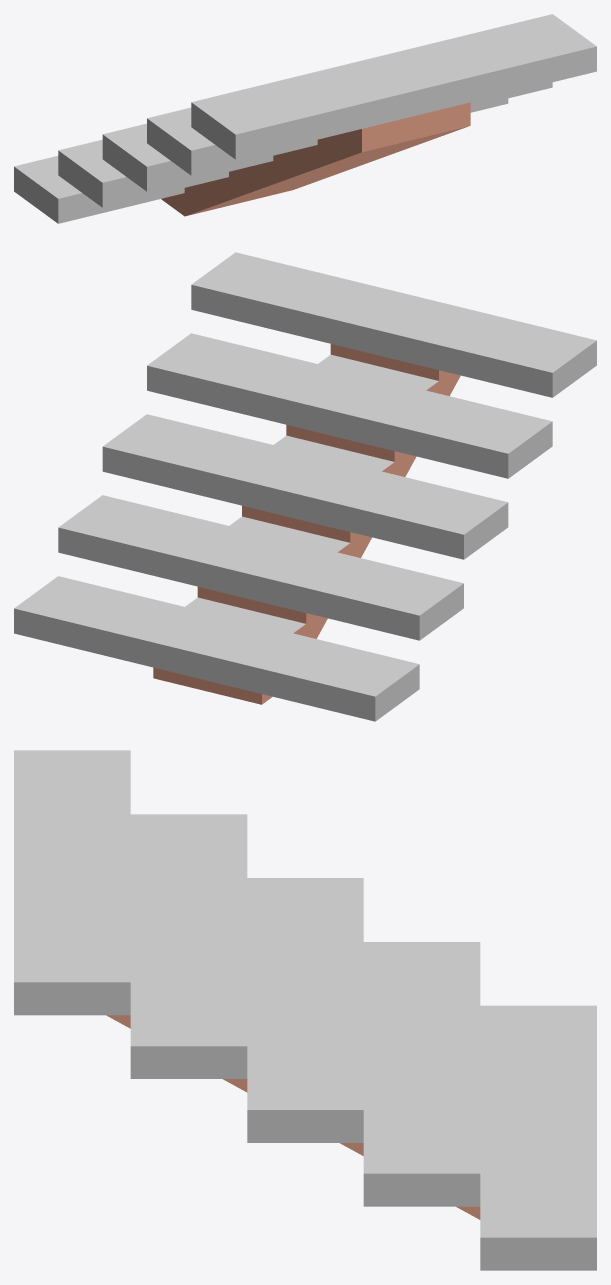
File: stairs.glb
The picture shows the model from 3 angles, top to bottom: view 1: azimuth 30°, elevation 25°; view 2: azimuth 150°, elevation 25°; view 3: azimuth 270°, elevation 25°; orthographic projection. The views are drawn at different scales.
Visible parts, largest first — view 1: stairs; view 2: stairs; view 3: stairs.
Boxes of the visible parts, box(x1,y1,x2,y2) form: stairs: box(14, 14, 596, 223); stairs: box(14, 252, 596, 721); stairs: box(14, 750, 596, 1270).
Size of the model in its own units: 4.83 by 3.1 by 5.14.
